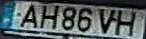6: (76, 6, 93, 33)
8: (60, 4, 77, 31)
A: (18, 3, 38, 28)
H: (113, 8, 137, 37), (38, 4, 60, 30)
V: (97, 7, 118, 35)
